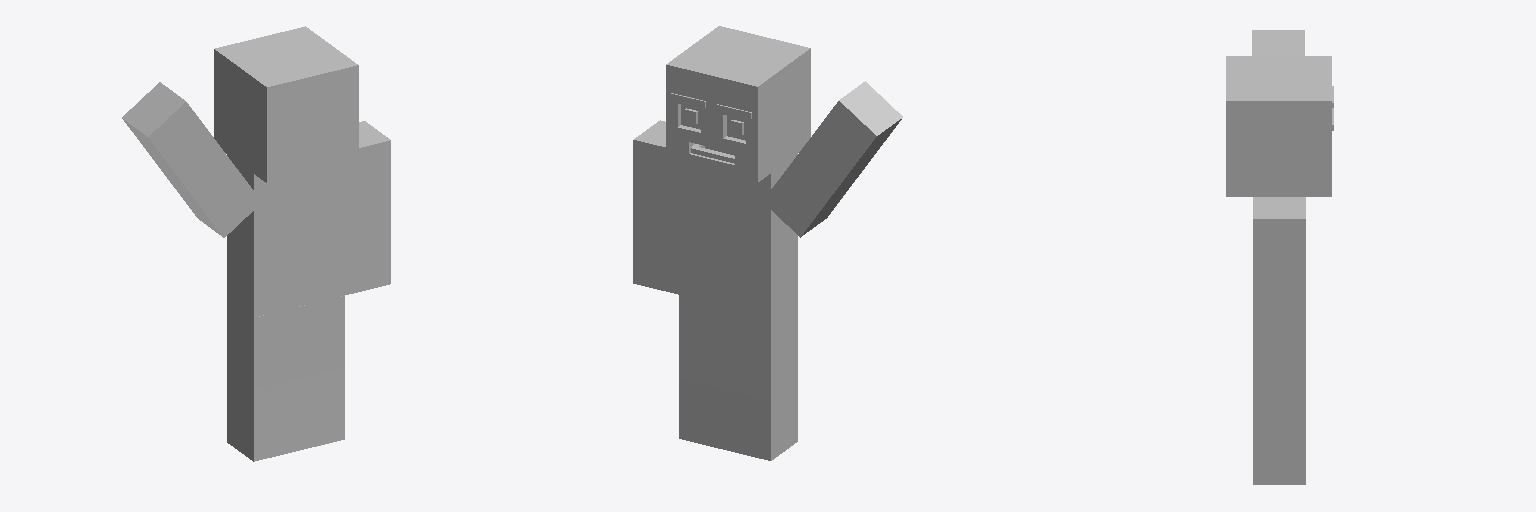
Rendered from steve_animate_000011.obj.
The picture shows the model from 3 angles: view 1: azimuth 30°, elevation 25°; view 2: azimuth 150°, elevation 25°; view 3: azimuth 270°, elevation 25°; orthographic projection.
Parts seen in each view (by area): view 1: Mesh.001_Head, Body_Steve_Body.001, Leg_L_Leg_L.001, Arm_L_Arm_L.001, Arm_R_Arm_R.001, Leg_R_Leg_R.001; view 2: Mesh.001_Head, Body_Steve_Body.001, Leg_L_Leg_L.001, Arm_L_Arm_L.001, Arm_R_Arm_R.001, Leg_R_Leg_R.001; view 3: Mesh.001_Head, Arm_R_Arm_R.001, Leg_R_Leg_R.001, Arm_L_Arm_L.001.
Part boxes in pixels (x1,y1,x2,y2): Mesh.001_Head: (214, 26, 358, 182); Body_Steve_Body.001: (227, 155, 344, 317); Leg_L_Leg_L.001: (227, 299, 299, 461); Arm_L_Arm_L.001: (122, 82, 254, 237); Arm_R_Arm_R.001: (345, 121, 390, 294); Leg_R_Leg_R.001: (299, 296, 344, 449); Mesh.001_Head: (666, 26, 810, 182); Body_Steve_Body.001: (679, 154, 797, 316); Leg_L_Leg_L.001: (725, 298, 797, 460); Arm_L_Arm_L.001: (762, 81, 902, 237); Arm_R_Arm_R.001: (633, 120, 678, 294); Leg_R_Leg_R.001: (679, 295, 724, 449); Mesh.001_Head: (1226, 56, 1331, 196); Arm_R_Arm_R.001: (1253, 197, 1305, 362); Leg_R_Leg_R.001: (1253, 363, 1305, 484); Arm_L_Arm_L.001: (1252, 30, 1304, 55).
Bounding box in the file's own units: 4.24 × 6.4 × 1.62.